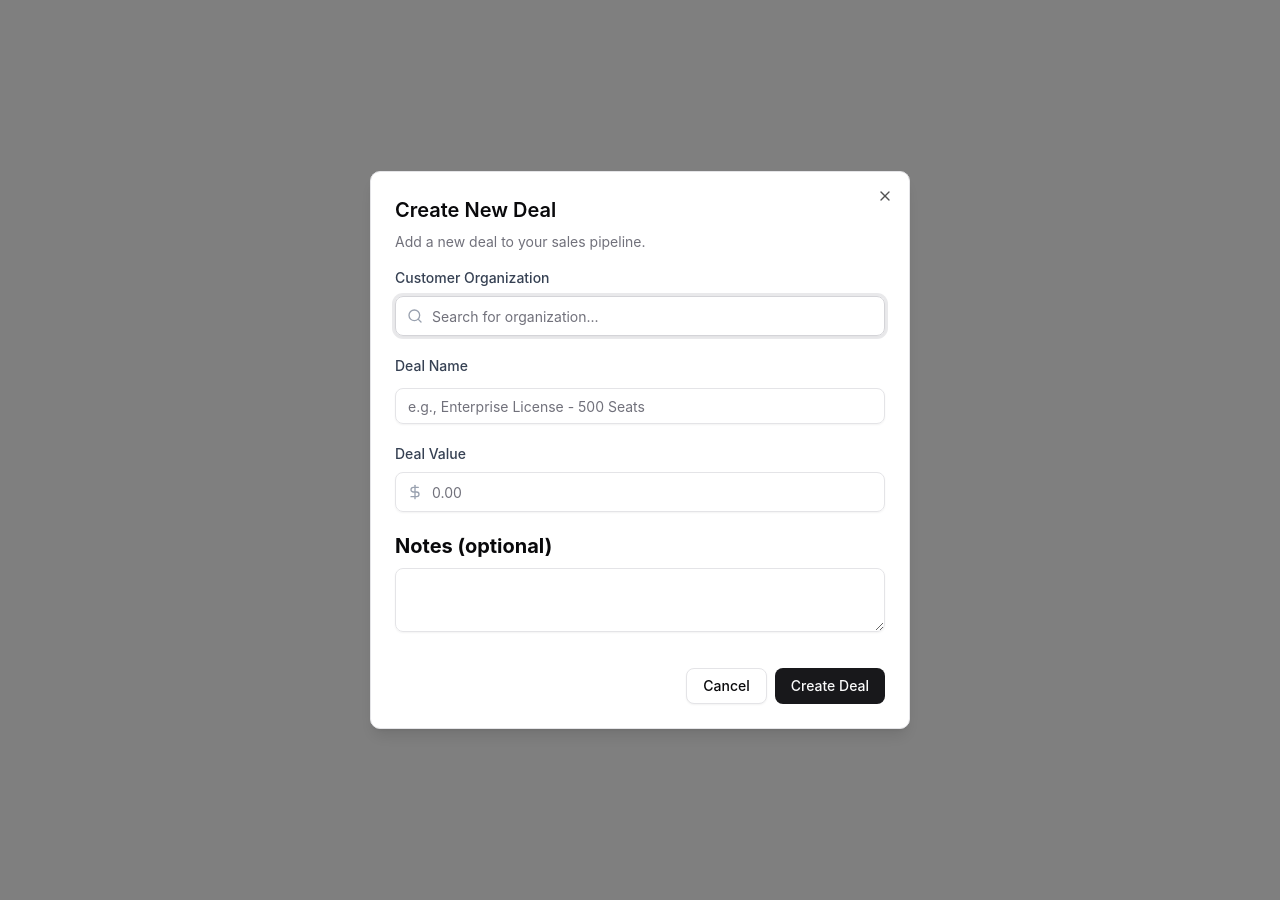
Test: CreateDealDialog › Pipeline and Stage Selection › should show stages after selecting pipeline
This screenshot has width=1280, height=900.
Type "Acme" into the field with placeholder "Search for organization..." at (640, 316), box [395,296,885,336]
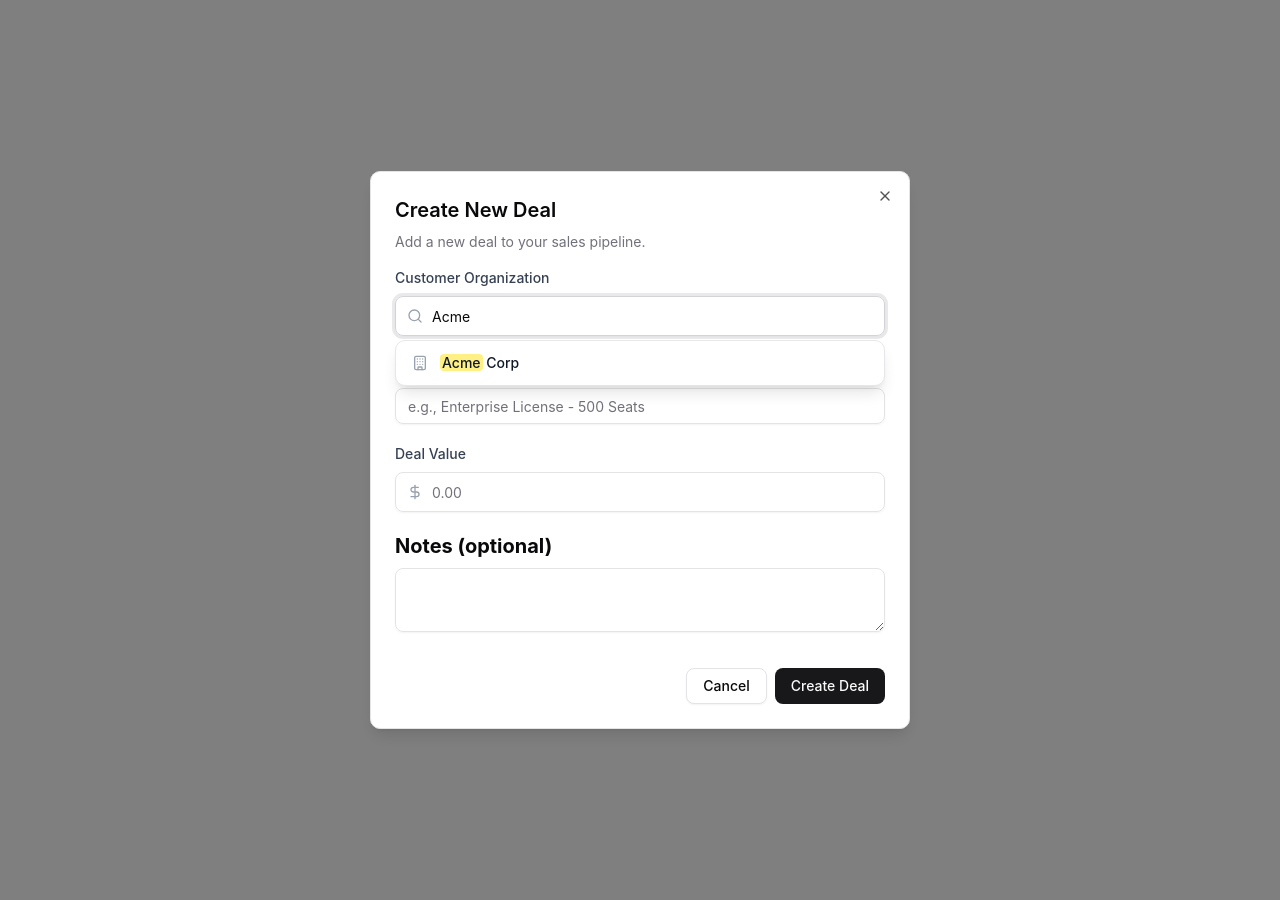
Check: the button "Acme Corp" is shown
Click the button "Acme Corp" at (461, 362), box [396,341,884,385]
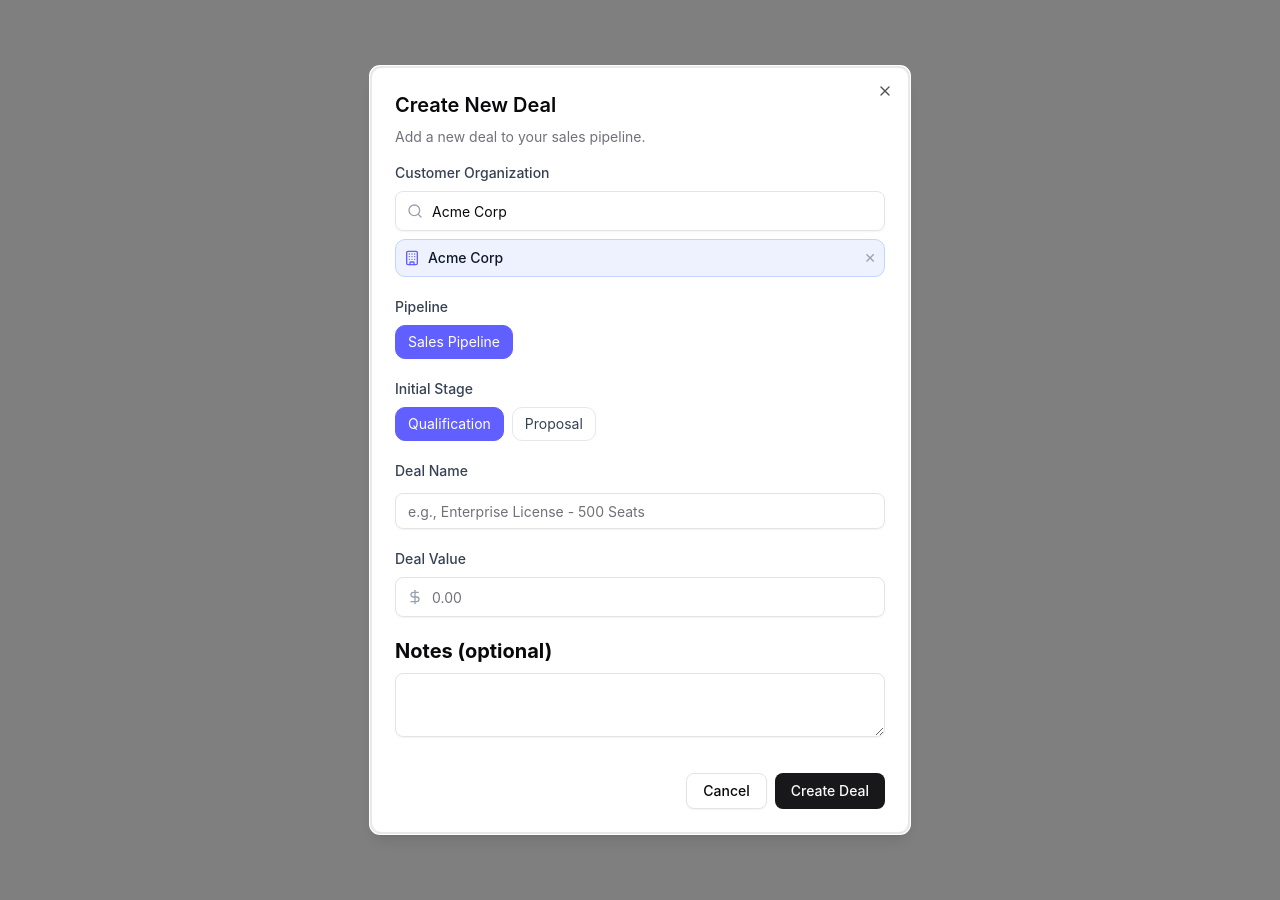
Check: the button "Qualification" is shown, box [395,407,504,441]
